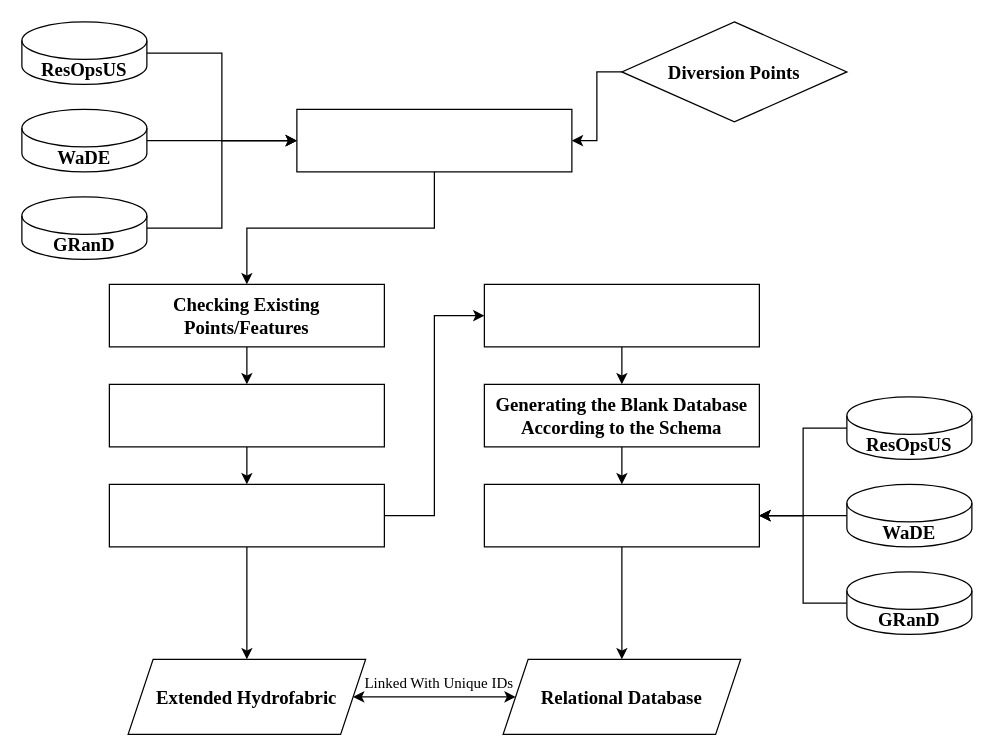
This 994x756 diagram has some shape labels left out. Each missing label, with the centre of its shape:
Bundling the New Hydrofabric Geopackage: [246,515]
Extracting POIs in the Area of Interest: [621,315]
Linking New Points to the Fabric Segment "comid"s: [246,415]
Populating the Database: [621,515]
Preparing Diversion/Reservoir Data Table: [434,140]
